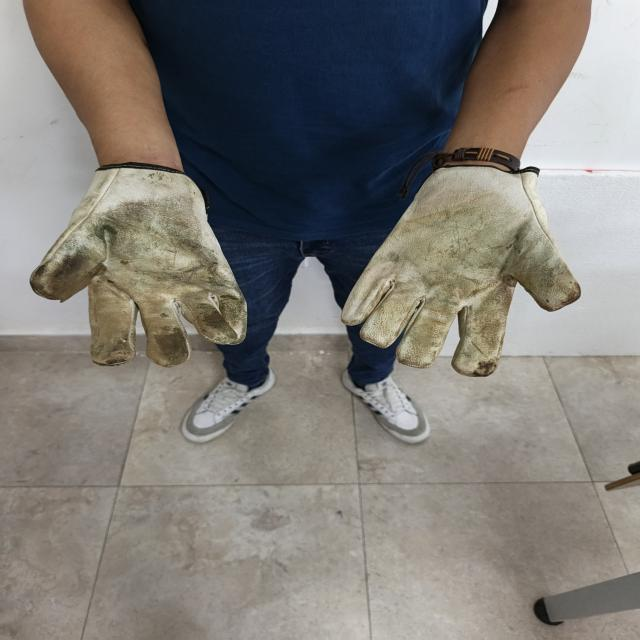gloves: (341, 148, 580, 376), (30, 166, 247, 367)
